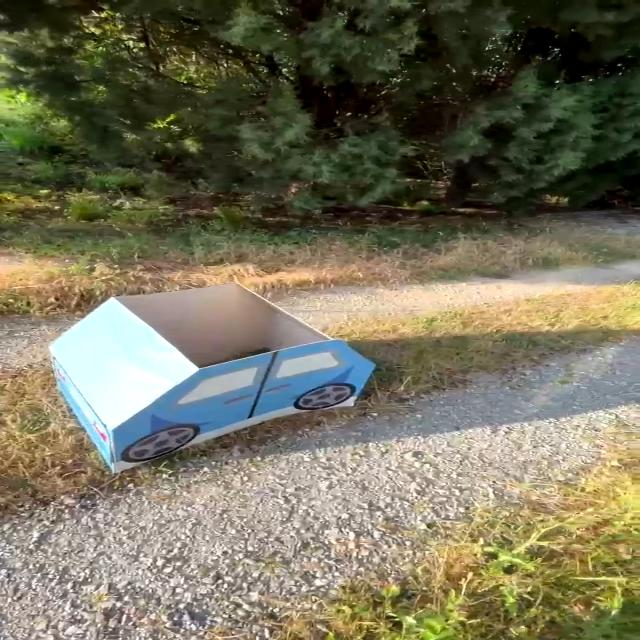blue_car: (28, 261, 418, 494)
